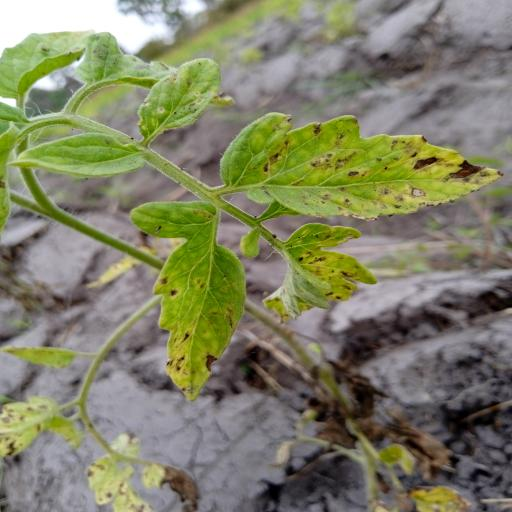Tomato_Brown_Spots: (217, 110, 509, 221), (123, 196, 252, 402), (260, 222, 379, 325), (131, 54, 227, 141), (7, 131, 147, 178)
